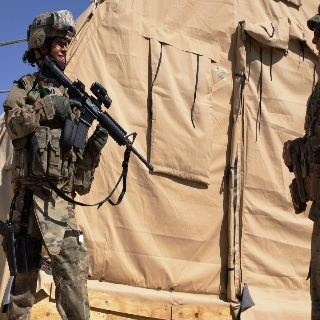rifle: (41, 52, 154, 172)
